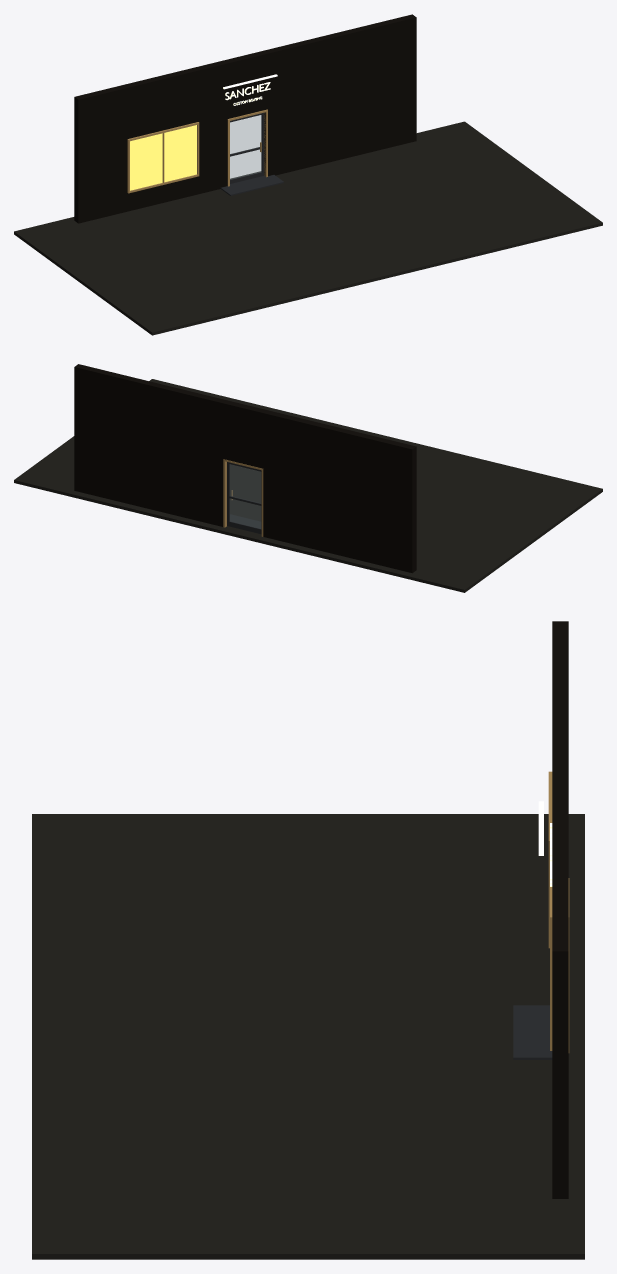
The model's file is exterior.glb.
The picture shows the model from 3 angles, top to bottom: view 1: azimuth 30°, elevation 25°; view 2: azimuth 150°, elevation 25°; view 3: azimuth 270°, elevation 25°; orthographic projection. The views are drawn at different scales.
Visible parts, largest first — view 1: EXT_pavement, EXT_facade_right, EXT_facade_left, EXT_window_glow, EXT_facade_lintel, DOOR_glass, EXT_step; view 2: EXT_pavement, EXT_facade_left, EXT_facade_right, EXT_facade_lintel, DOOR_glass; view 3: EXT_pavement, EXT_facade_right, EXT_facade_left, EXT_step.
Boxes of the visible parts, x1,y1,x2,y2 form: EXT_pavement: (14,121,602,335); EXT_facade_right: (262,14,416,175); EXT_facade_left: (74,60,229,223); EXT_window_glow: (130,125,196,190); EXT_facade_lintel: (225,51,265,118); DOOR_glass: (230,115,261,179); EXT_step: (220,175,283,195); EXT_pavement: (14,379,602,592); EXT_facade_left: (261,410,416,573); EXT_facade_right: (74,364,228,526); EXT_facade_lintel: (225,401,265,468); DOOR_glass: (230,464,260,528); EXT_pavement: (32,814,584,1259); EXT_facade_right: (552,804,568,1198); EXT_facade_left: (552,621,568,768); EXT_step: (513,1005,552,1059).
Bounding box in the file's own units: 16 × 4.3 × 8.5.
